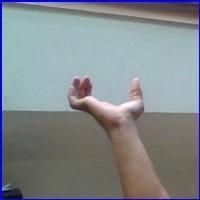B: (63, 69, 152, 127)
